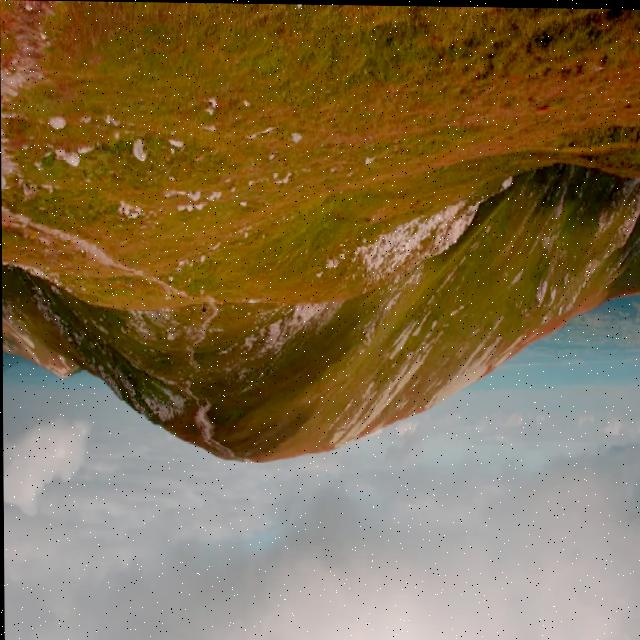Kopa Kondracka: (46, 365, 89, 392)
Malolaczniak: (126, 375, 376, 553)
